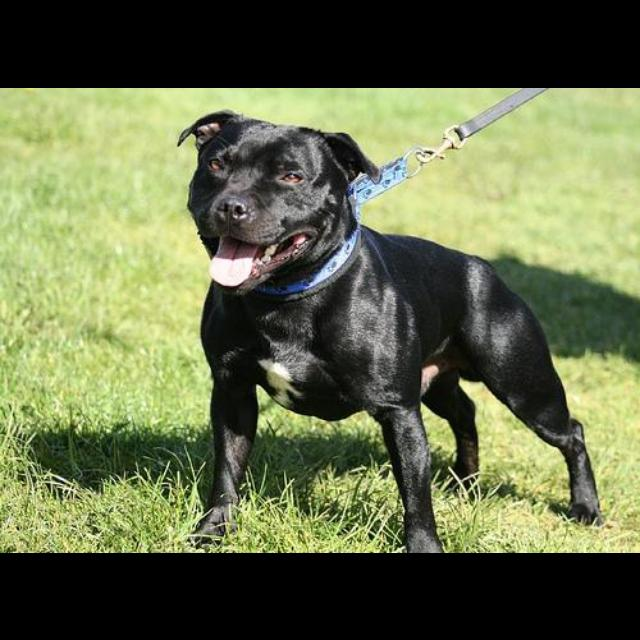staffford: (177, 108, 605, 553)
